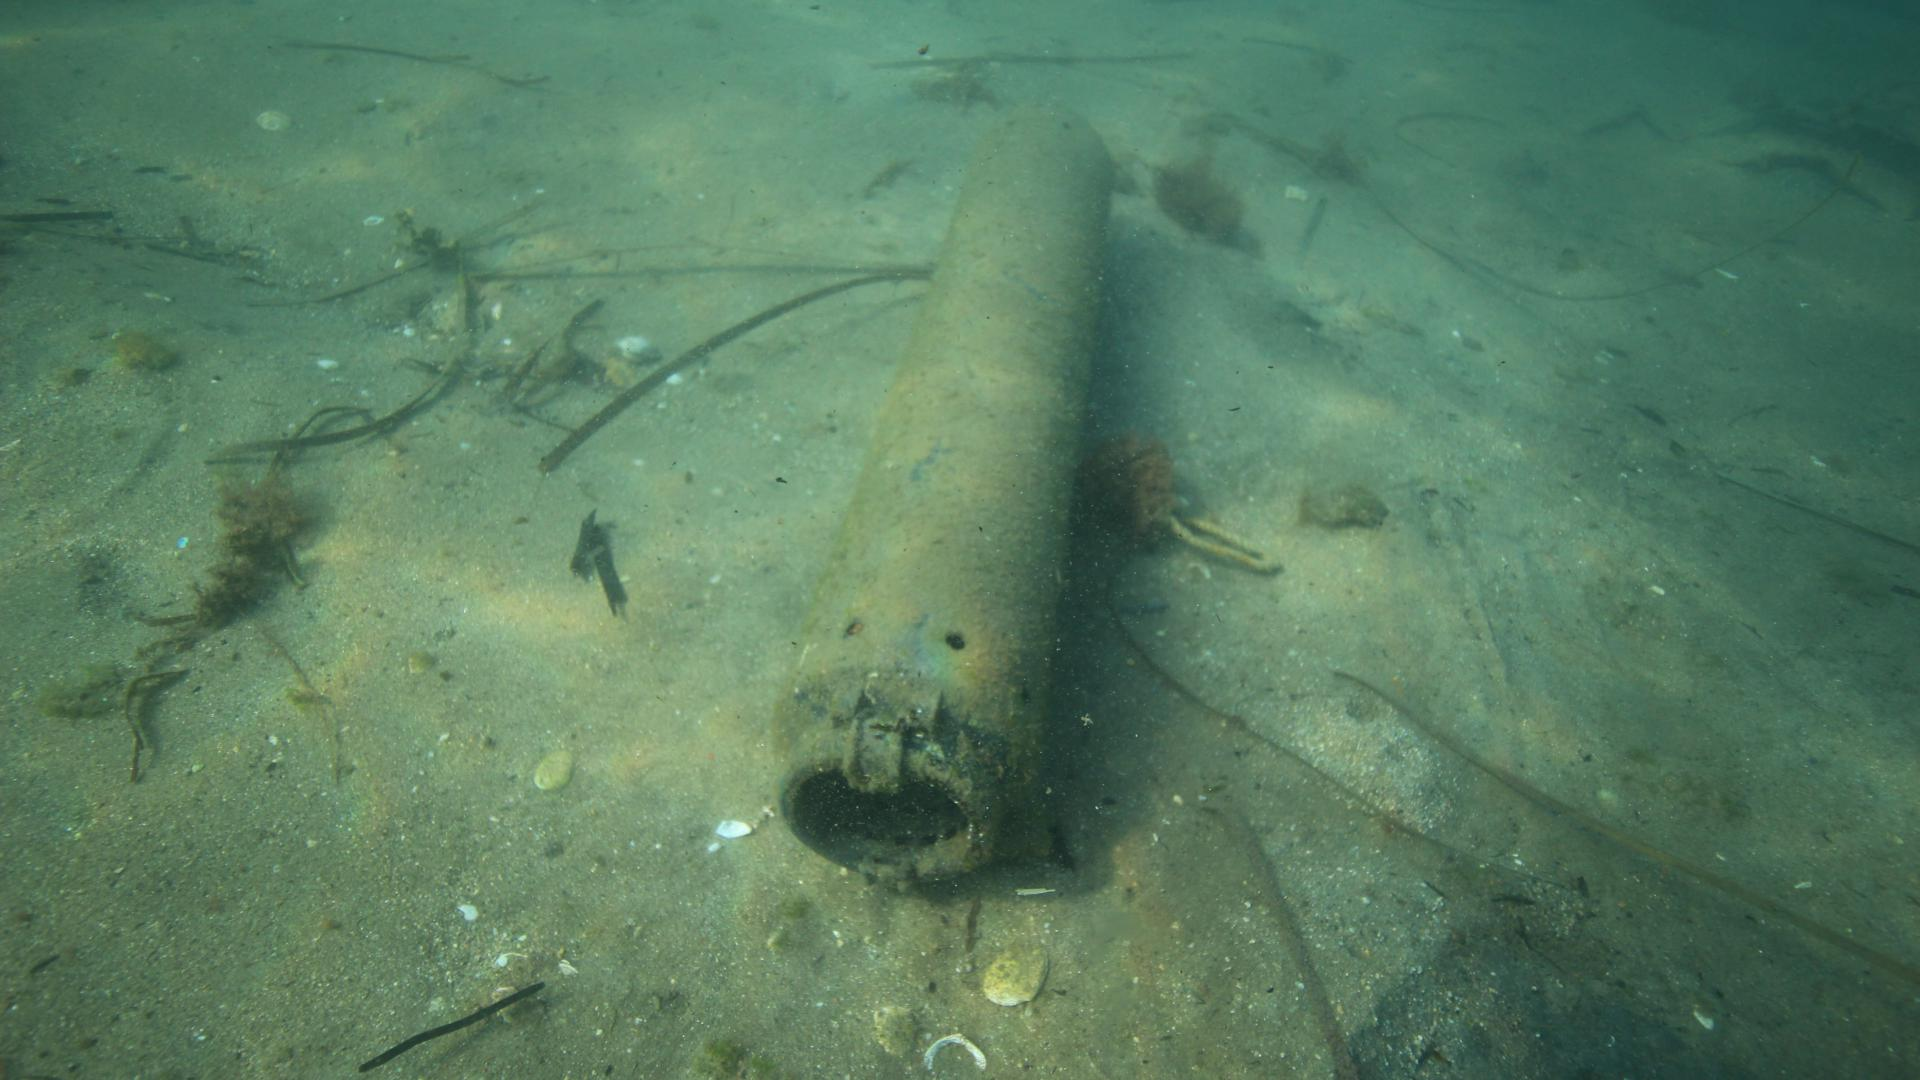eel fish trap: (764, 102, 1118, 891)
